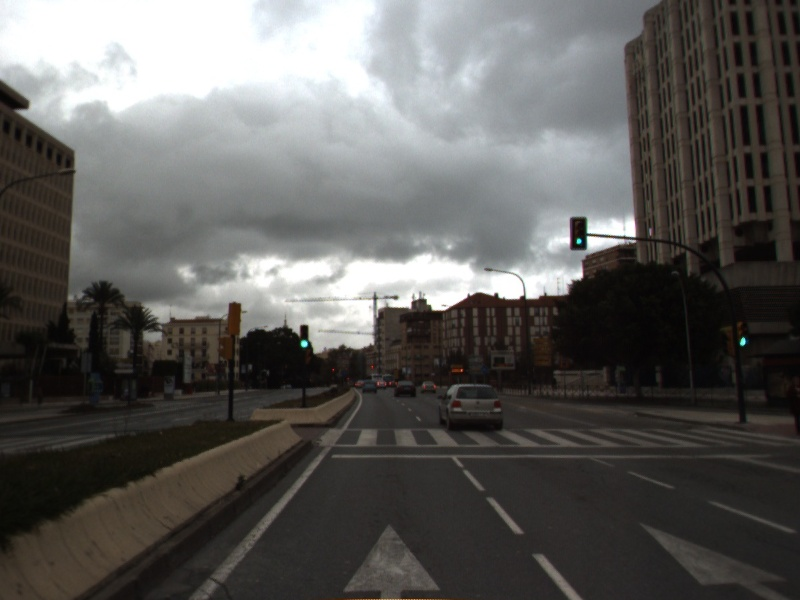STRAIGHT: (635, 518, 794, 600), (339, 520, 445, 600)
